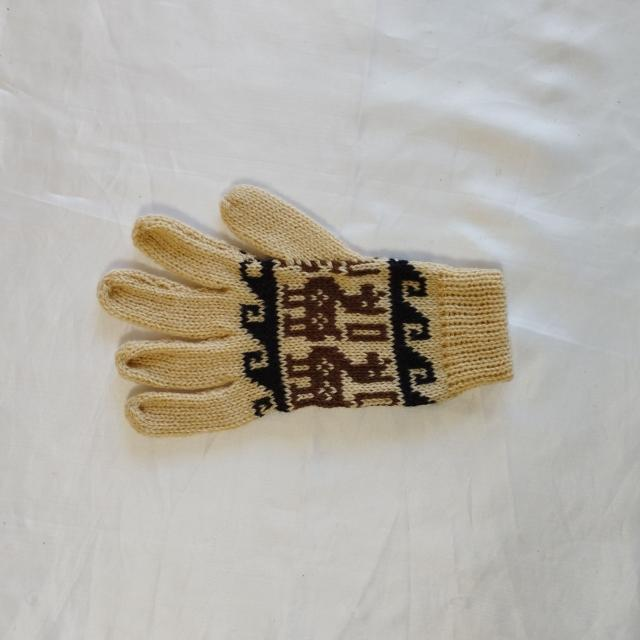Guante: (96, 183, 514, 439)
